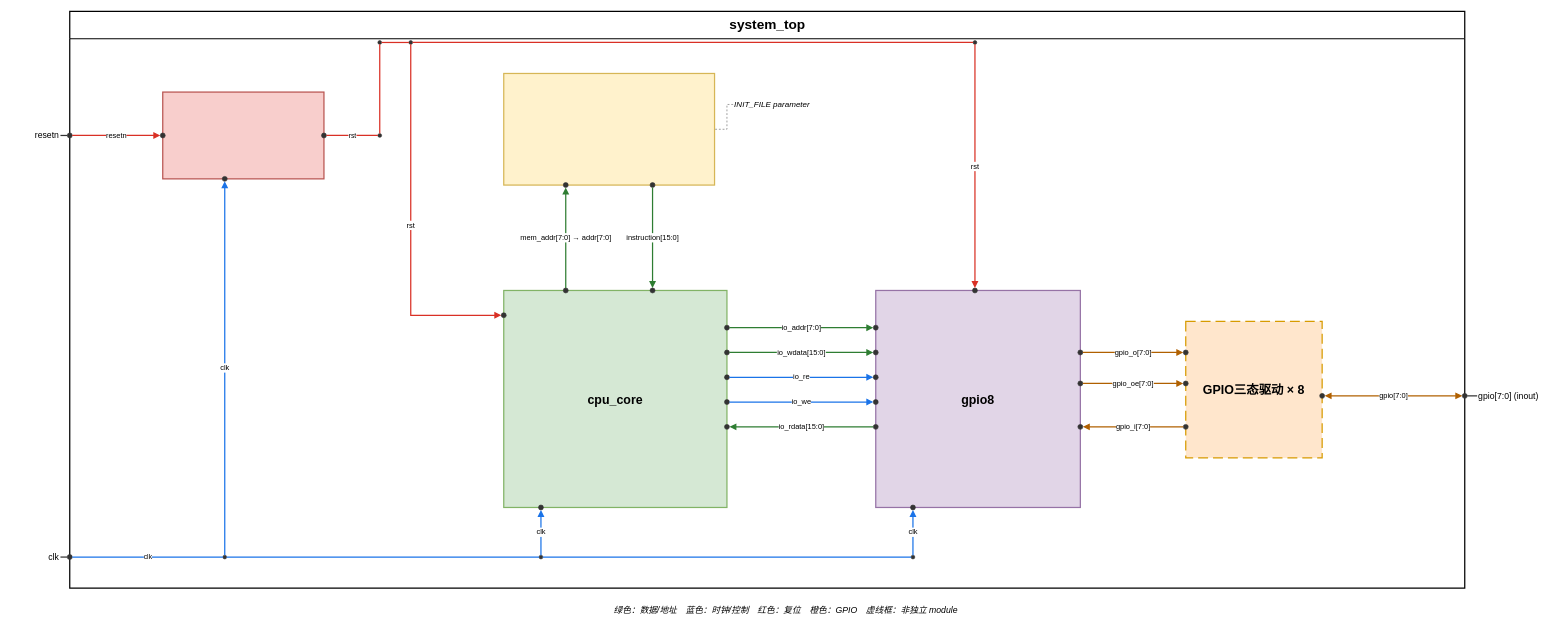
Some shapes in this 1565 by 629 pixel diagram are drawn without their labels. The centre of each missing label's shape, as x and y in pixels:
"instruction_memory" belongs at (x=609, y=129).
"reset_conditioner" belongs at (x=243, y=135).
